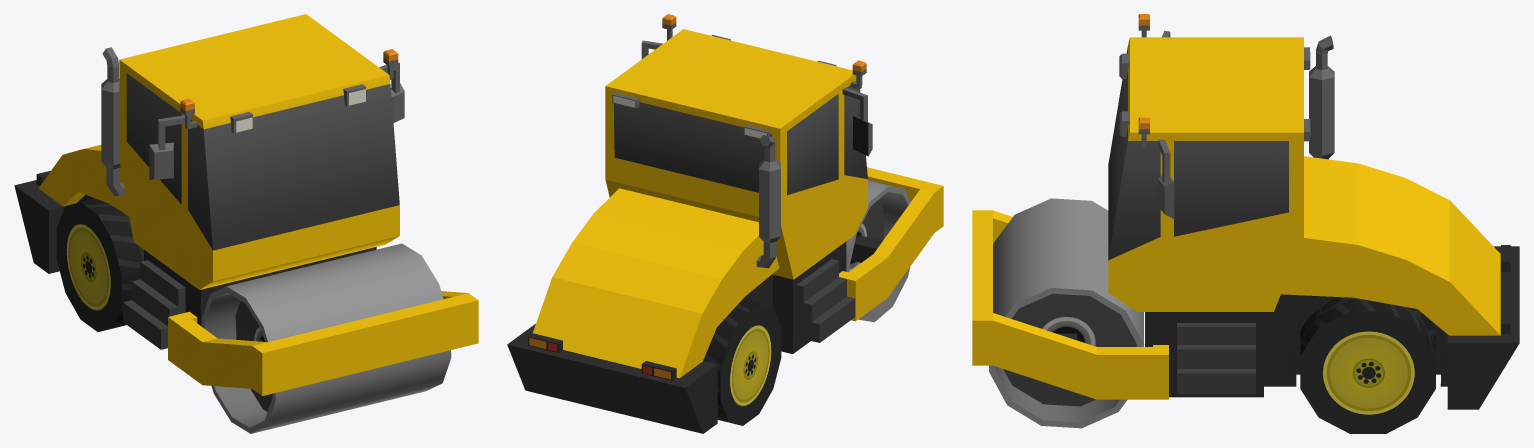
The model's file is Steamroller.fbx.
3 renders of one model, left to right at view 1: azimuth 30°, elevation 25°; view 2: azimuth 150°, elevation 25°; view 3: azimuth 270°, elevation 25°, orthographic. The views are drawn at different scales.
Visible parts, largest first — view 1: Steamroller, FronRoller, TireBR; view 2: Steamroller, TireBR, FronRoller; view 3: Steamroller, FronRoller, TireBL.
Part boxes in pixels (x1=…): Steamroller: x1=14, y1=14, x2=478, y2=395; FronRoller: x1=201, y1=243, x2=451, y2=433; TireBR: x1=56, y1=198, x2=143, y2=331; Steamroller: x1=507, y1=14, x2=943, y2=433; TireBR: x1=703, y1=300, x2=781, y2=425; FronRoller: x1=846, y1=180, x2=910, y2=322; Steamroller: x1=972, y1=14, x2=1519, y2=409; FronRoller: x1=989, y1=198, x2=1143, y2=428; TireBL: x1=1300, y1=297, x2=1435, y2=433.
Bounding box in the file's own units: 239 × 278 × 433.
